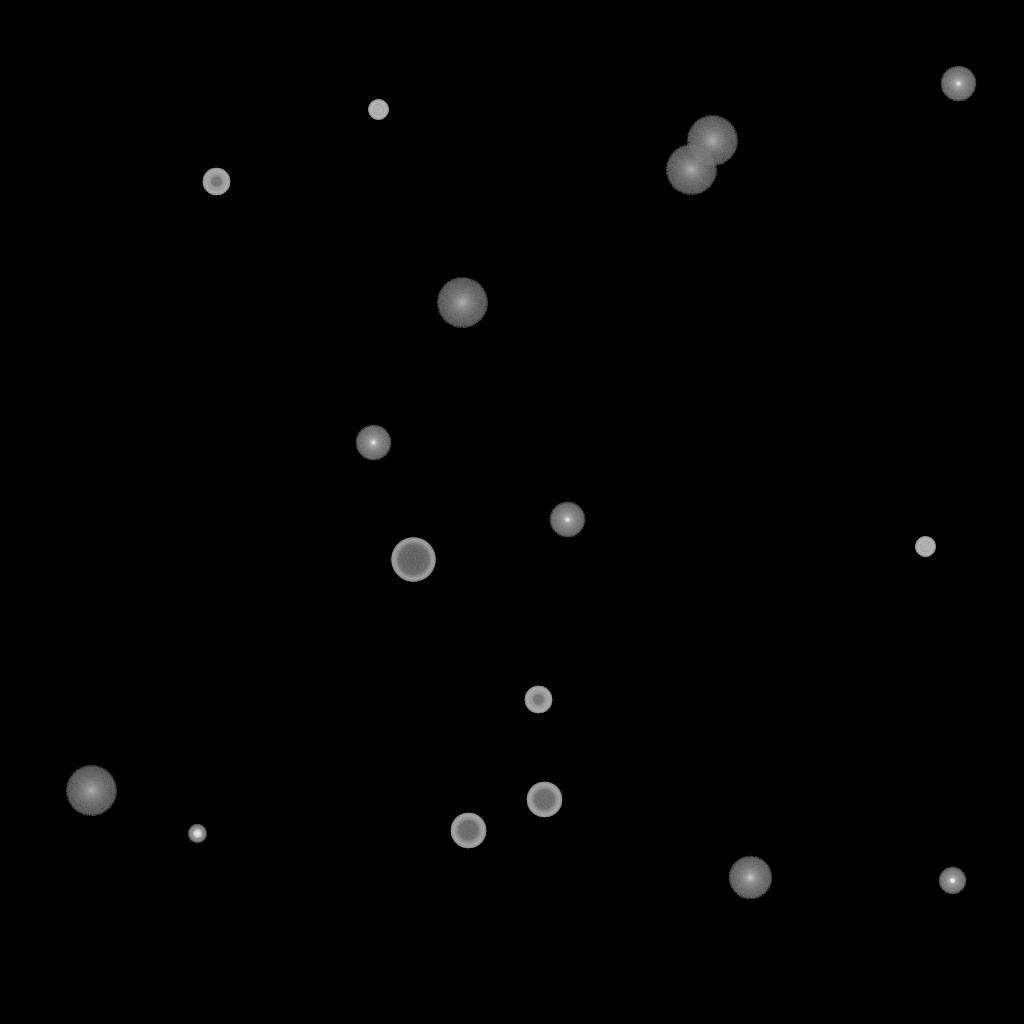depth:-10: (938, 867, 966, 895)
depth:-20: (188, 825, 206, 843)
depth:-40: (915, 537, 935, 557), (368, 100, 388, 120)
depth:-50: (202, 168, 230, 196), (524, 686, 552, 714)
depth:-60: (526, 782, 562, 818), (450, 813, 486, 849)
depth:-70: (391, 538, 435, 582)
depth:0: (355, 425, 391, 461), (940, 66, 976, 102), (549, 502, 585, 538)
depth:10: (728, 856, 772, 900)
depth:20: (665, 145, 717, 195), (686, 116, 738, 166), (65, 766, 117, 816), (436, 278, 488, 328)
